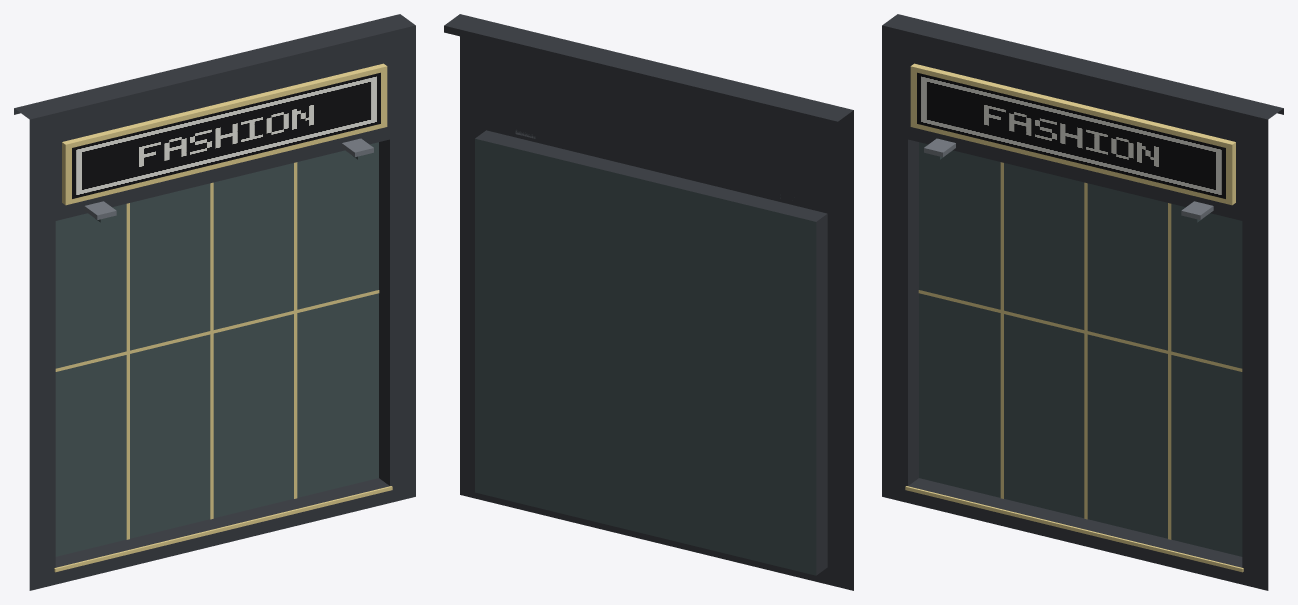
File: base-w1_close.fbx
3 views of the same model, side by side, from view 1: azimuth 30°, elevation 25°; view 2: azimuth 150°, elevation 25°; view 3: azimuth 330°, elevation 25° (orthographic). The views are drawn at different scales.
Parts seen in each view (by area): view 1: a2009/800/base-w1_close; view 2: a2009/800/base-w1_close; view 3: a2009/800/base-w1_close.
Part boxes in pixels (x1,y1,x2,y2): a2009/800/base-w1_close: (14,14,415,590); a2009/800/base-w1_close: (444,14,853,590); a2009/800/base-w1_close: (882,14,1283,590).
Bounding box in the file's own units: 6 × 7 × 0.77.
